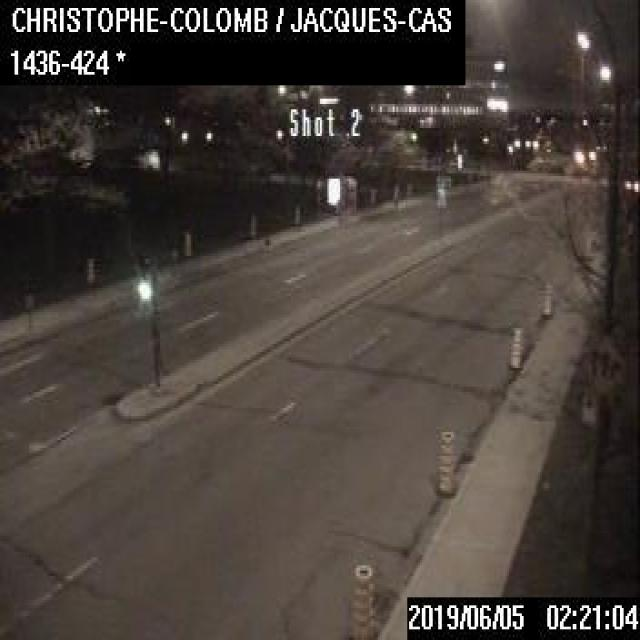construction: (349, 560, 376, 637), (434, 426, 452, 496), (508, 323, 522, 368), (539, 276, 553, 318), (85, 254, 93, 282), (182, 230, 190, 256), (293, 202, 300, 224), (368, 186, 376, 203), (250, 212, 256, 234)
